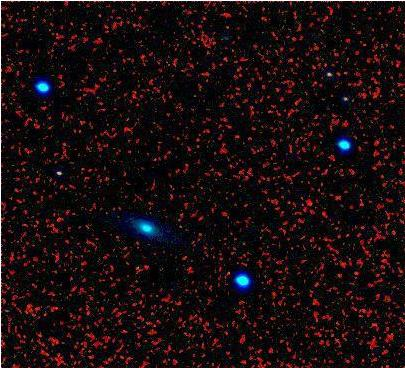star: (127, 255, 157, 285)
